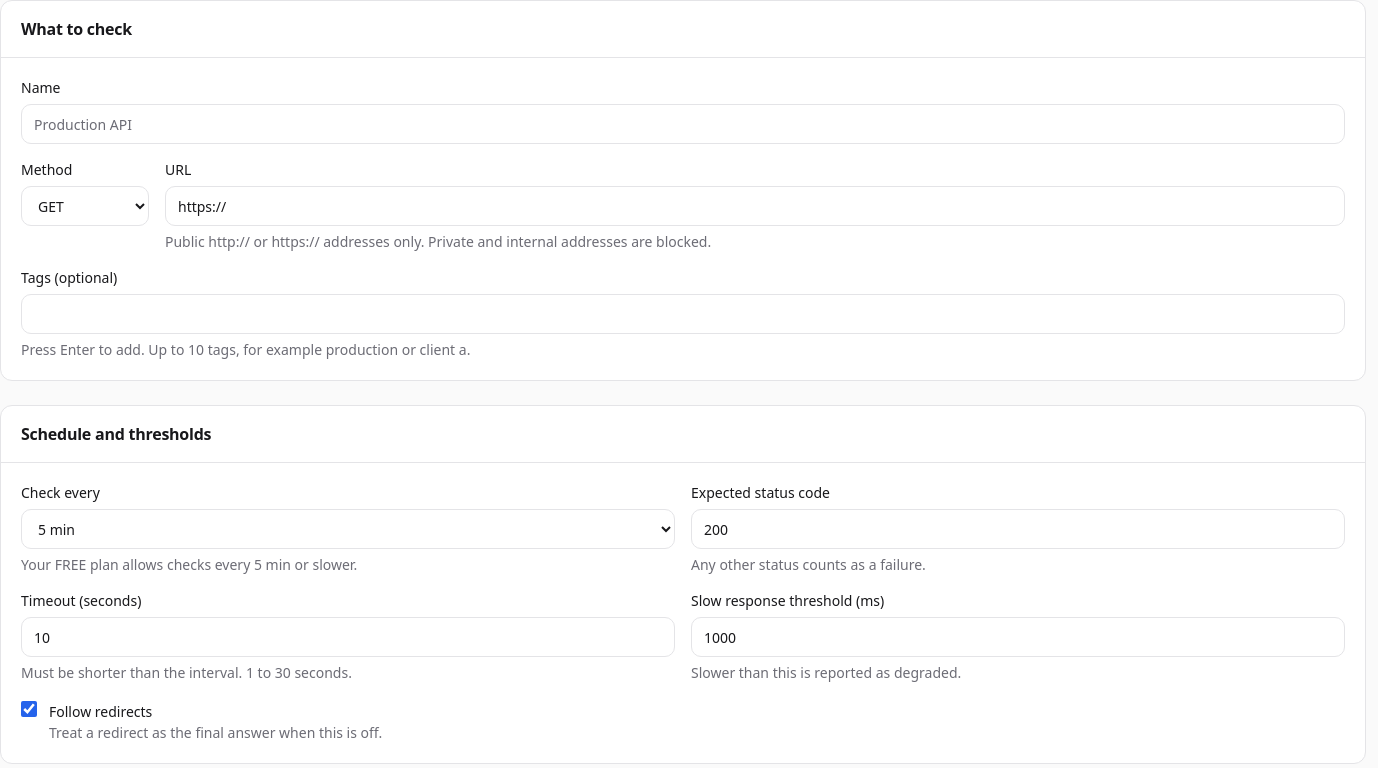
Scenario: MonitorForm validation › rejects the URL ftp://example.com/file
In the field labelled "Name": (683, 124) [21,104,1345,144], type "My API"
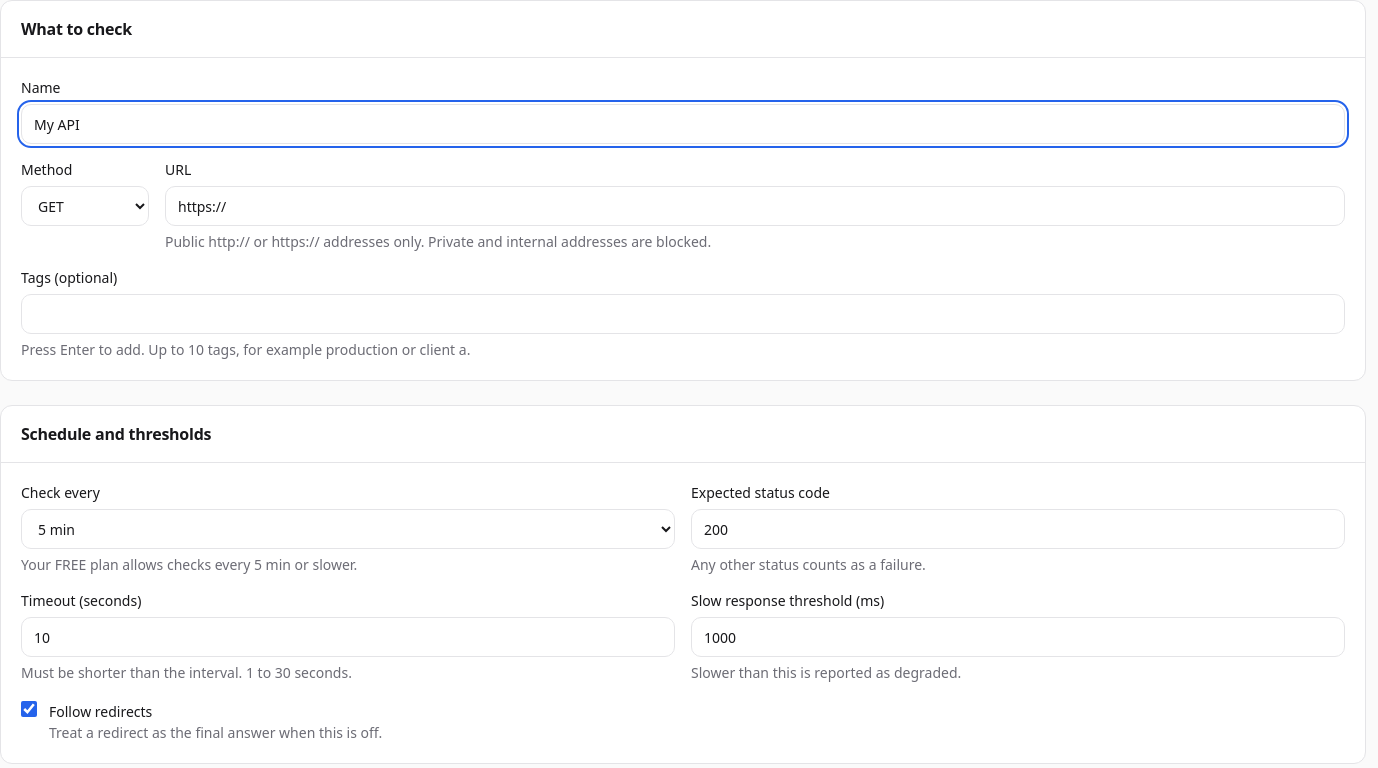
Replace the text in the field labelled "URL" with "ftp://example.com/file": (755, 206) [165,186,1345,226]
(page scrolled)
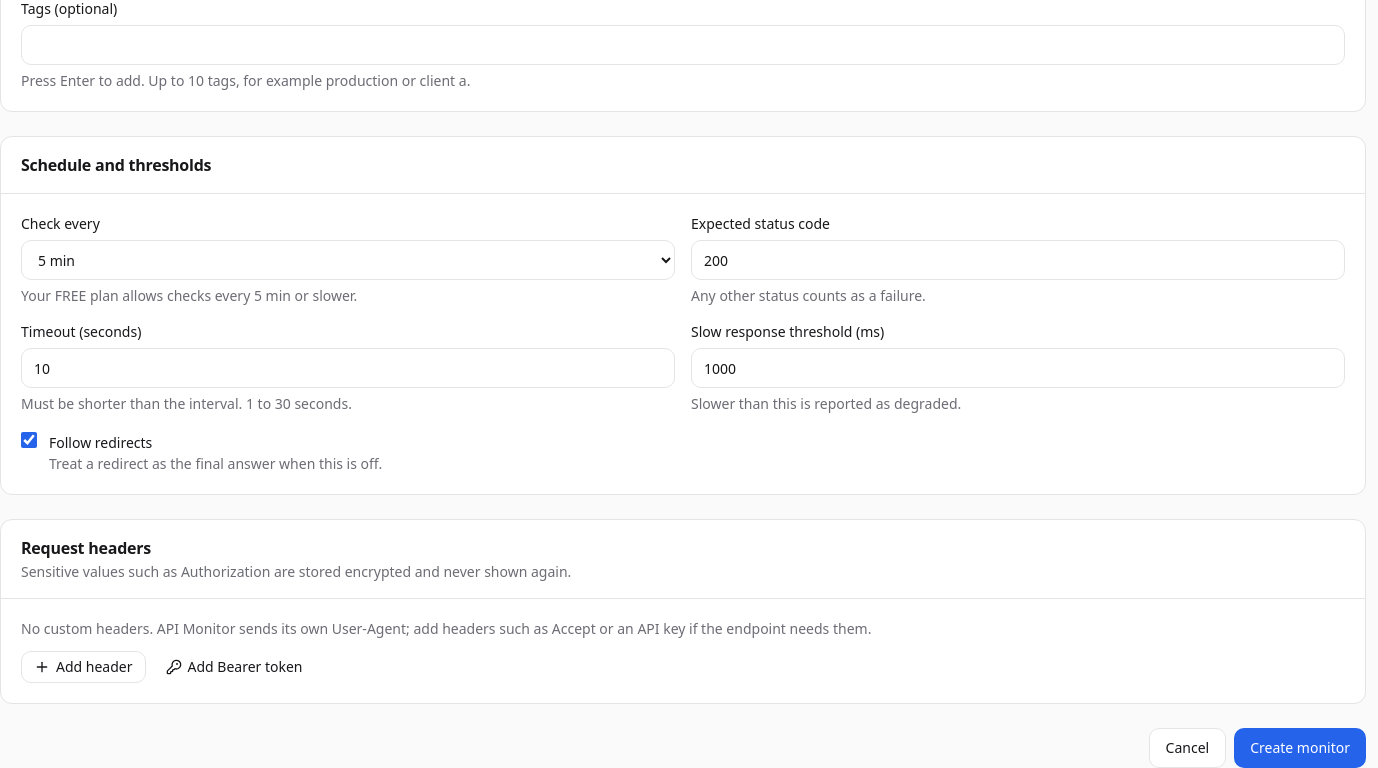
Click the button "Create monitor": (1300, 748) [1234,728,1366,767]
(page scrolled)
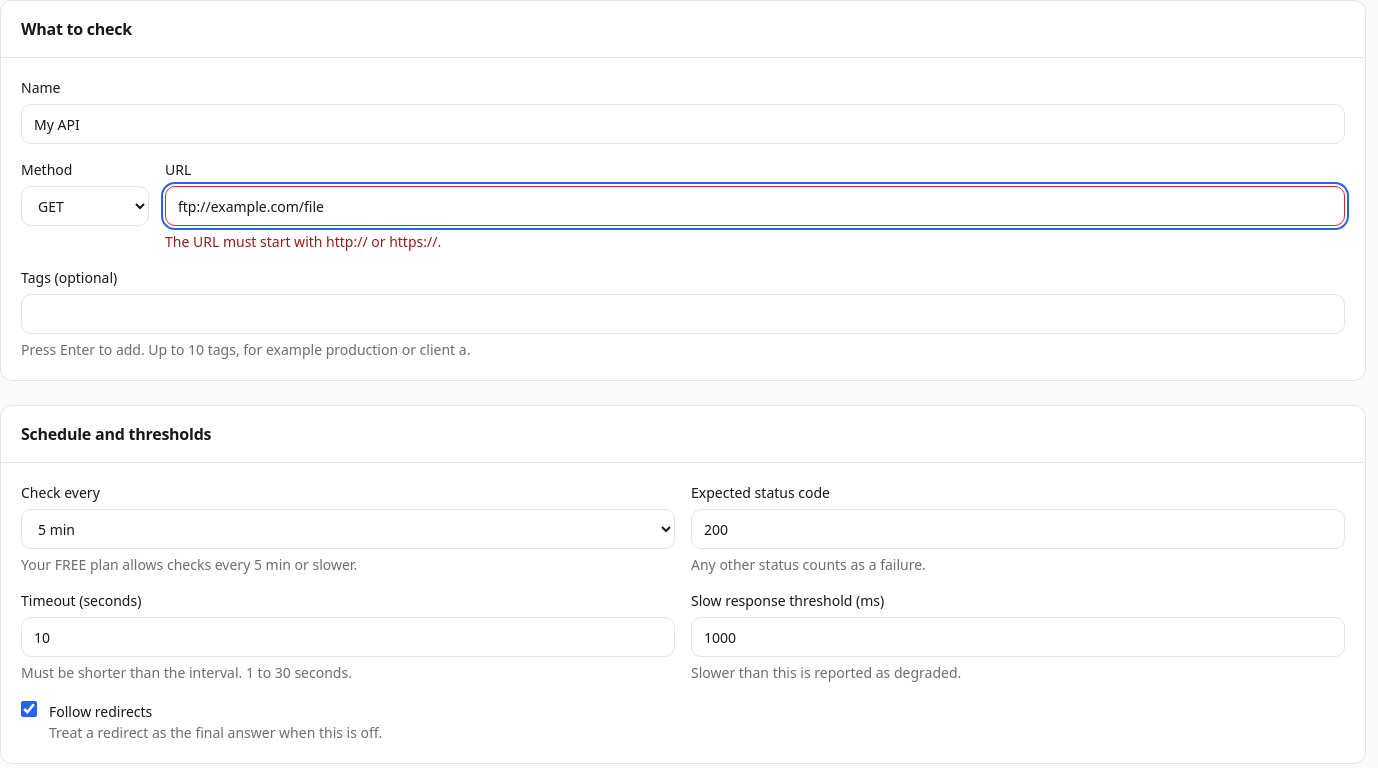
Result: the text "The URL must start with http:// or https://." is shown at [165,232,441,251]
